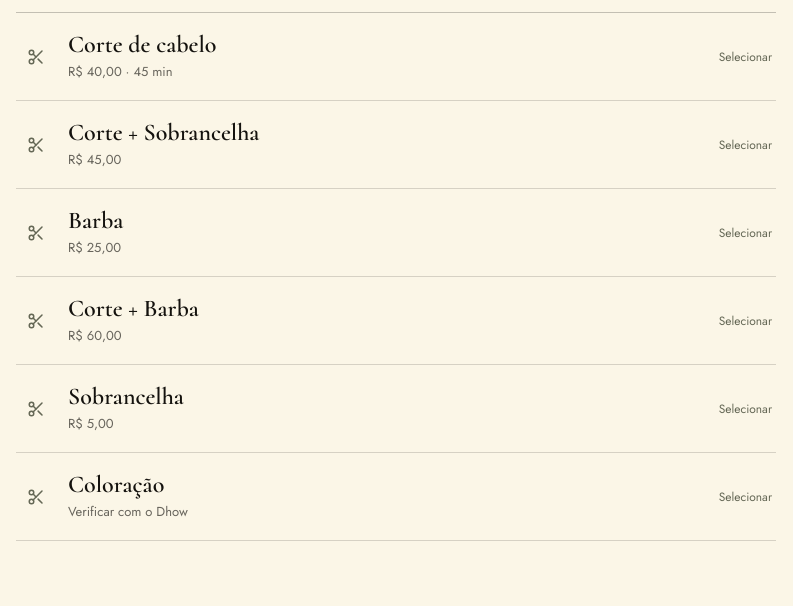
Test case: React booking flow › shows a textual service price in the review in the legacy position
(page scrolled)
Click the button "Coloração Verificar com o Dhow Selecionar".
click(116, 484)  # box x1=16 y1=453 x2=776 y2=541
(page scrolled)
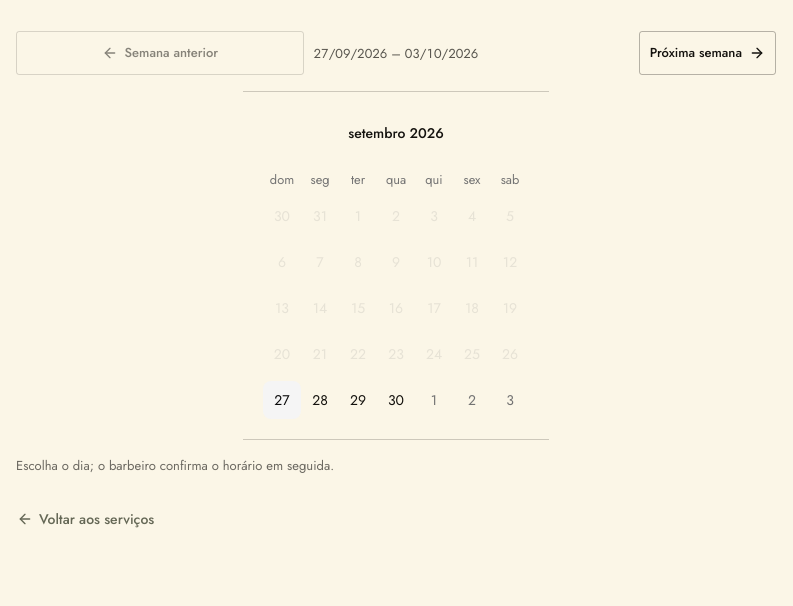
Click the button "27".
click(282, 400)  # box x1=263 y1=382 x2=301 y2=420
(page scrolled)
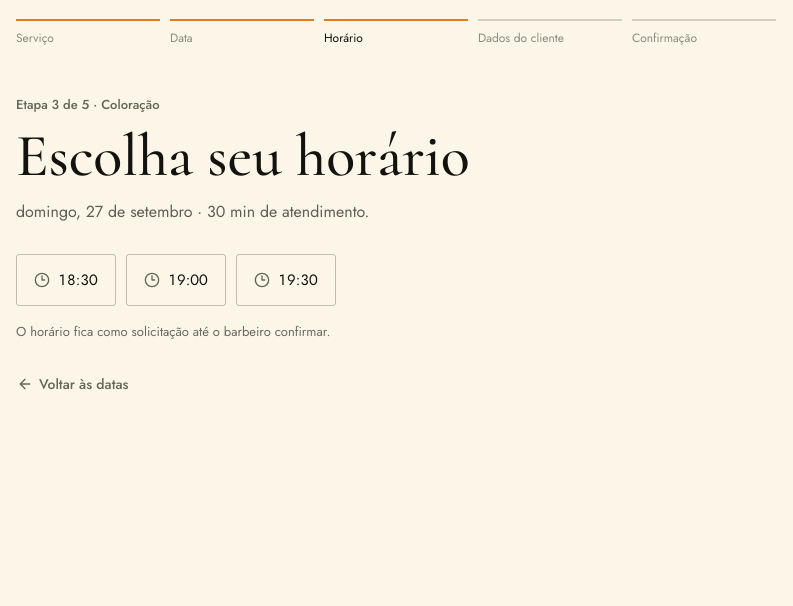
Expected: the heading "Escolha seu horário" is shown, x1=16 y1=120 x2=470 y2=192
Click the button with class "booking-slot" showing "18:30".
click(66, 280)  # box x1=16 y1=254 x2=116 y2=306
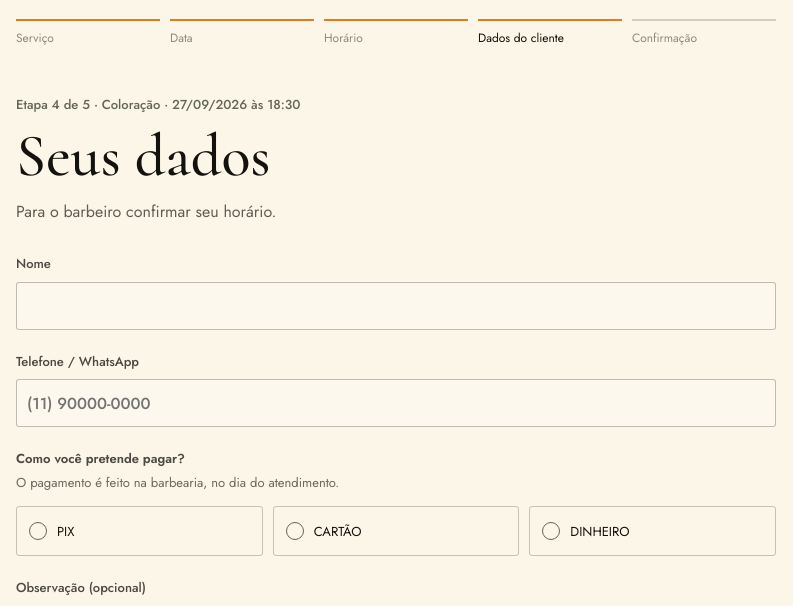
Expected: the heading "Seus dados" is shown, x1=16 y1=120 x2=271 y2=192
Type "Cliente Novo" into the field labelled "Nome".
click(396, 306); type("Cliente Novo")  # box x1=16 y1=282 x2=776 y2=330
Type "11912345678" into the field labelled "Telefone / WhatsApp".
click(396, 403); type("11912345678")  # box x1=16 y1=379 x2=776 y2=427
Click the text "PIX".
click(66, 531)  # box x1=57 y1=522 x2=74 y2=541
(page scrolled)
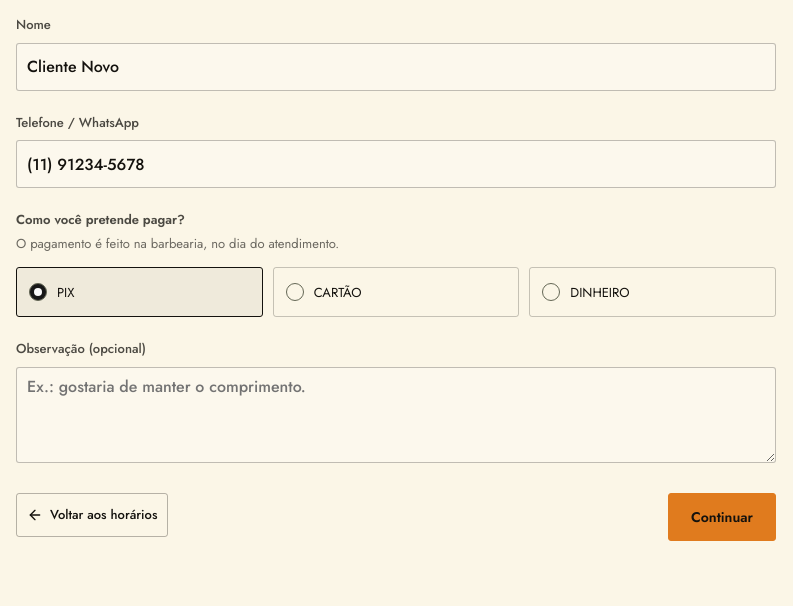
Type "Sem pressa" into the text box labelled "Observação (opcional)".
click(396, 415); type("Sem pressa")  # box x1=16 y1=367 x2=776 y2=463
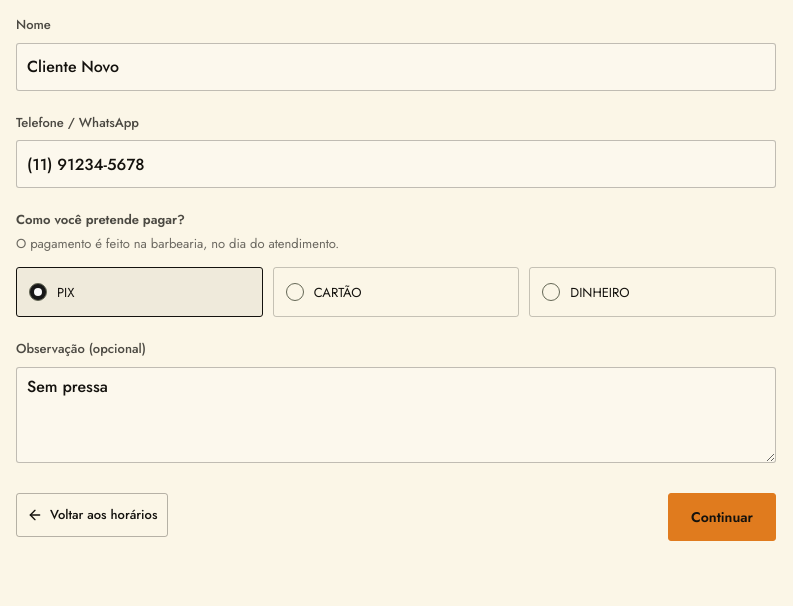
Click the button "Continuar".
click(722, 517)  # box x1=668 y1=493 x2=776 y2=541
(page scrolled)
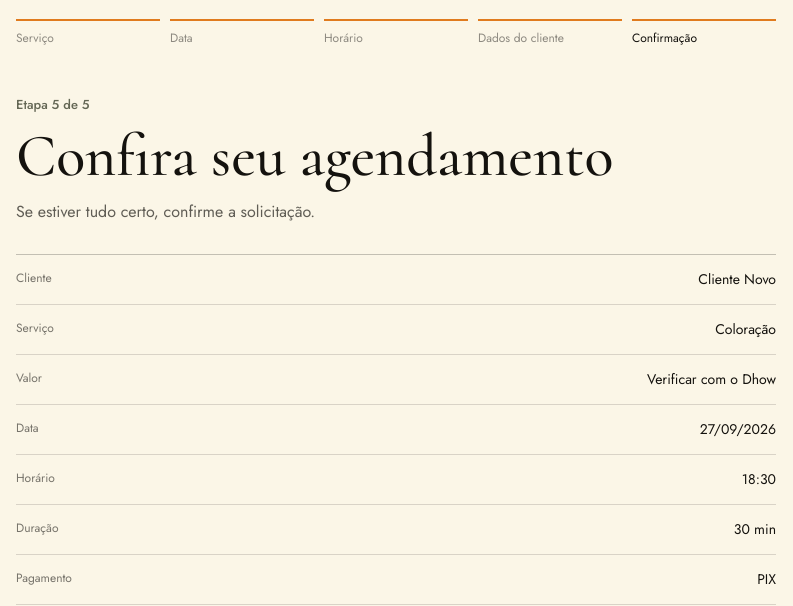
Expected: the heading "Confira seu agendamento" is shown, x1=16 y1=120 x2=613 y2=192
